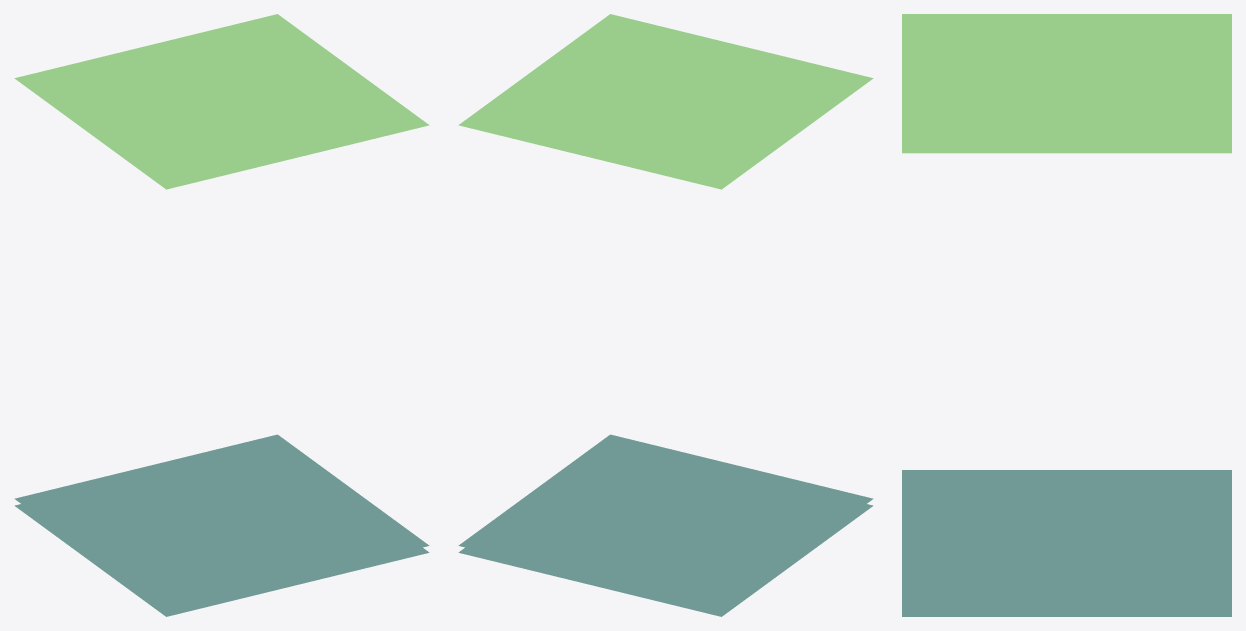
Rendered from Room_wall_2x2_no_sides.fbx.
3 renders of one model, left to right at view 1: azimuth 30°, elevation 25°; view 2: azimuth 150°, elevation 25°; view 3: azimuth 270°, elevation 25°, orthographic. The views are drawn at different scales.
Visible parts, largest first — view 1: Wall_2x2_no_sides; view 2: Wall_2x2_no_sides; view 3: Wall_2x2_no_sides.
Part boxes in pixels (bbox=[...]): Wall_2x2_no_sides: bbox=[14, 14, 429, 616]; Wall_2x2_no_sides: bbox=[458, 14, 873, 616]; Wall_2x2_no_sides: bbox=[902, 14, 1231, 616].
Bounding box in the file's own units: 2 × 3.1 × 2.
